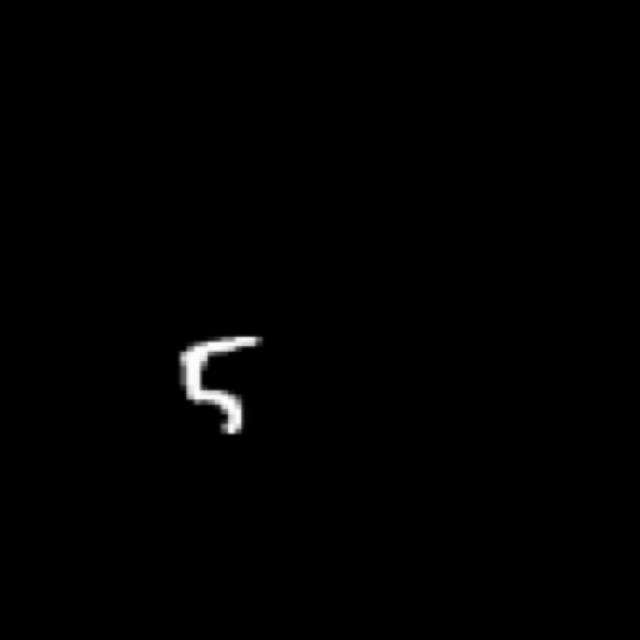five -5-: (164, 328, 274, 447)
